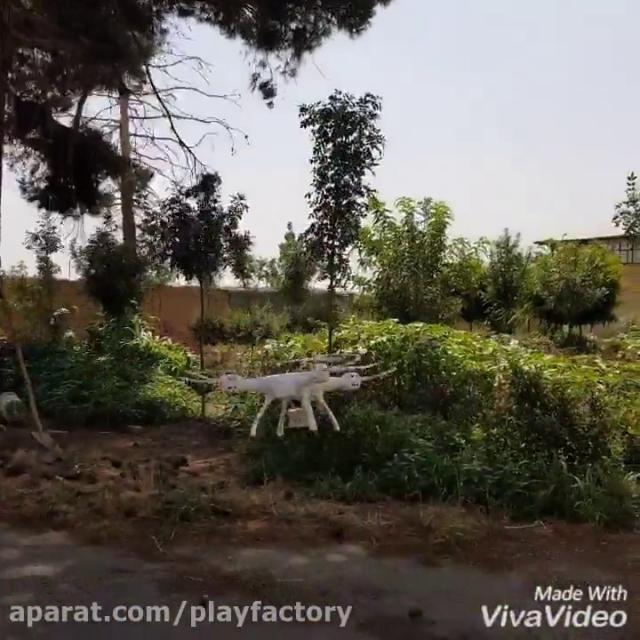drone: (174, 351, 401, 437)
